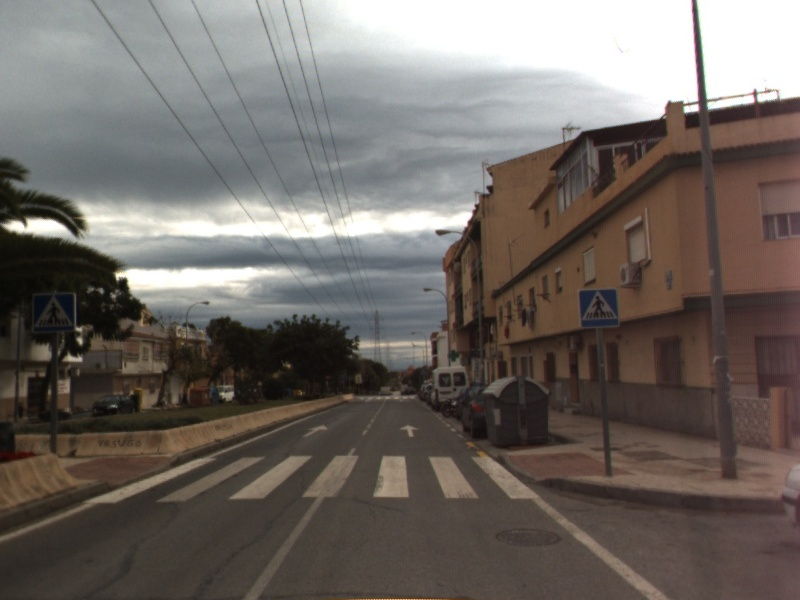STRAIGHT: (299, 423, 330, 440), (398, 423, 422, 439)
